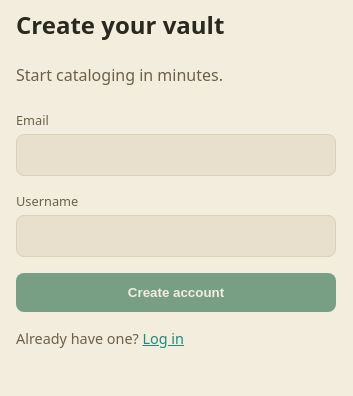
Test case: SignupComponent › shows a taken message on 409 and does not navigate
In the field labelled "Email": [176, 155] box [16, 134, 336, 176], type "dupe@realm.com"
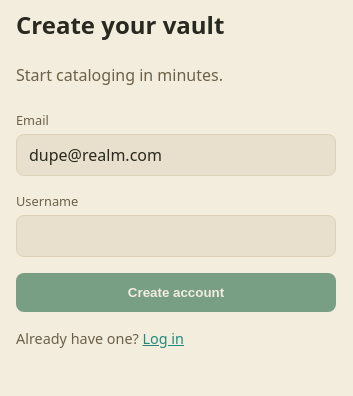
In the field labelled "Username": [176, 236] box [16, 215, 336, 257], type "taken"
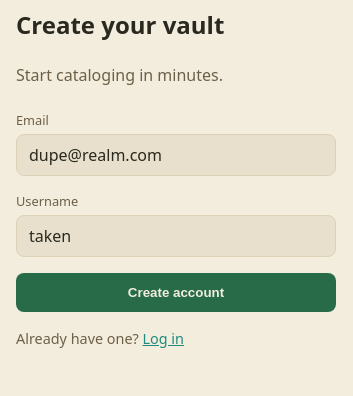
Submit the form, box [16, 111, 336, 312]
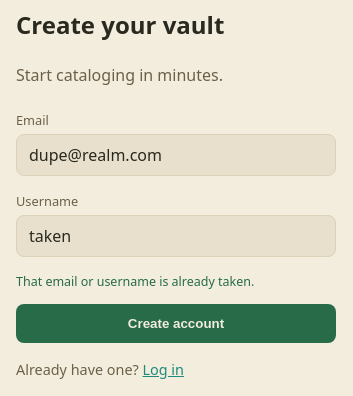
Check: the text "already taken" is shown, box [16, 273, 254, 290]
